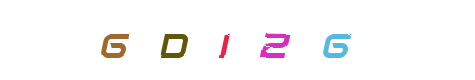6: (100, 0, 180, 80), (295, 0, 375, 80)
D: (134, 0, 214, 80)
I: (198, 0, 278, 80)
Z: (233, 0, 313, 80)
